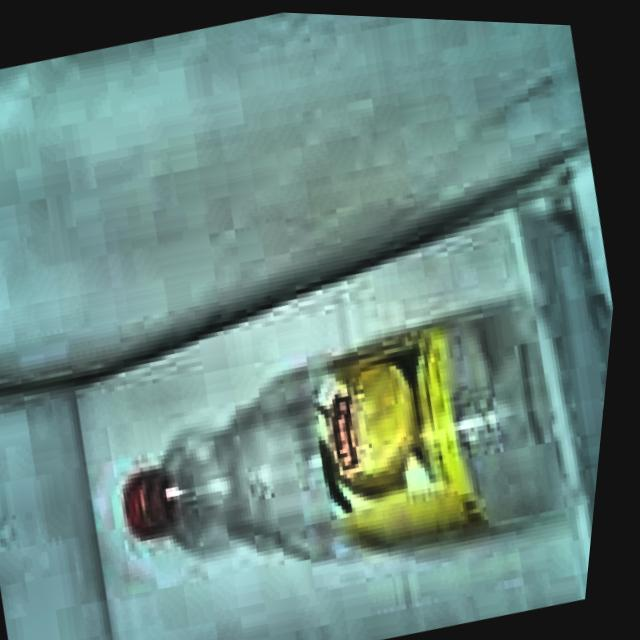Bottles: (70, 252, 621, 633)
